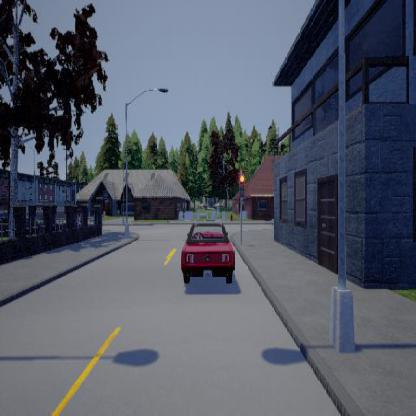traffic_light_red: (239, 170, 243, 200)
vehicle: (180, 223, 234, 282)
